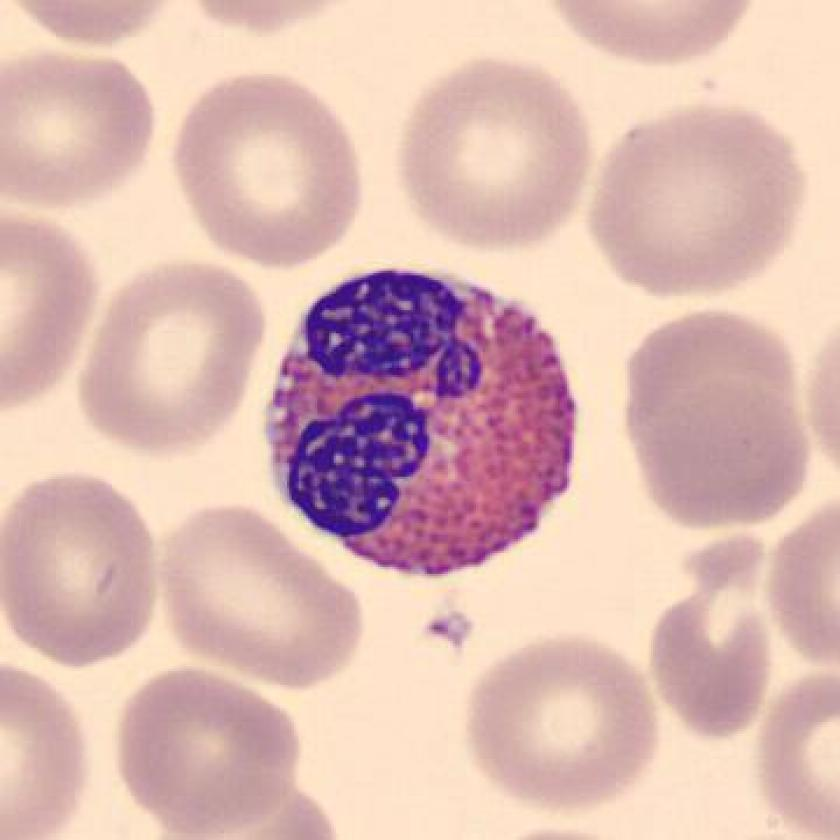eosinophil: (246, 258, 596, 586)
